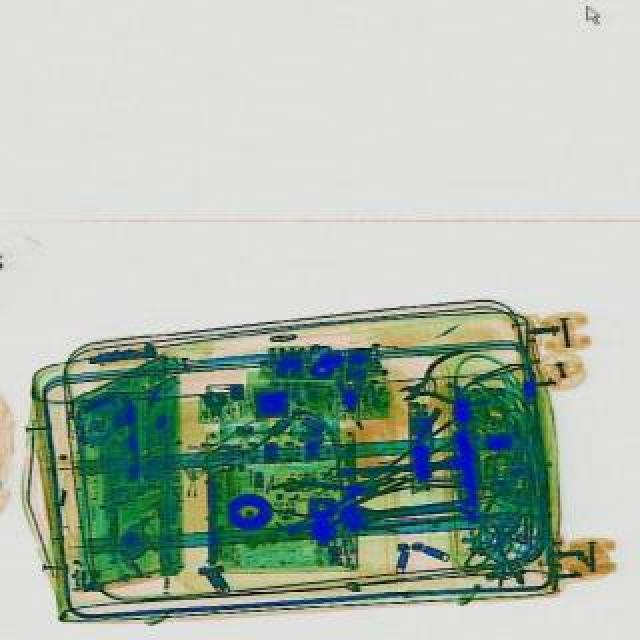scissors: (338, 490, 466, 534), (328, 452, 458, 478)
wrench: (266, 462, 394, 534), (386, 344, 488, 424)
